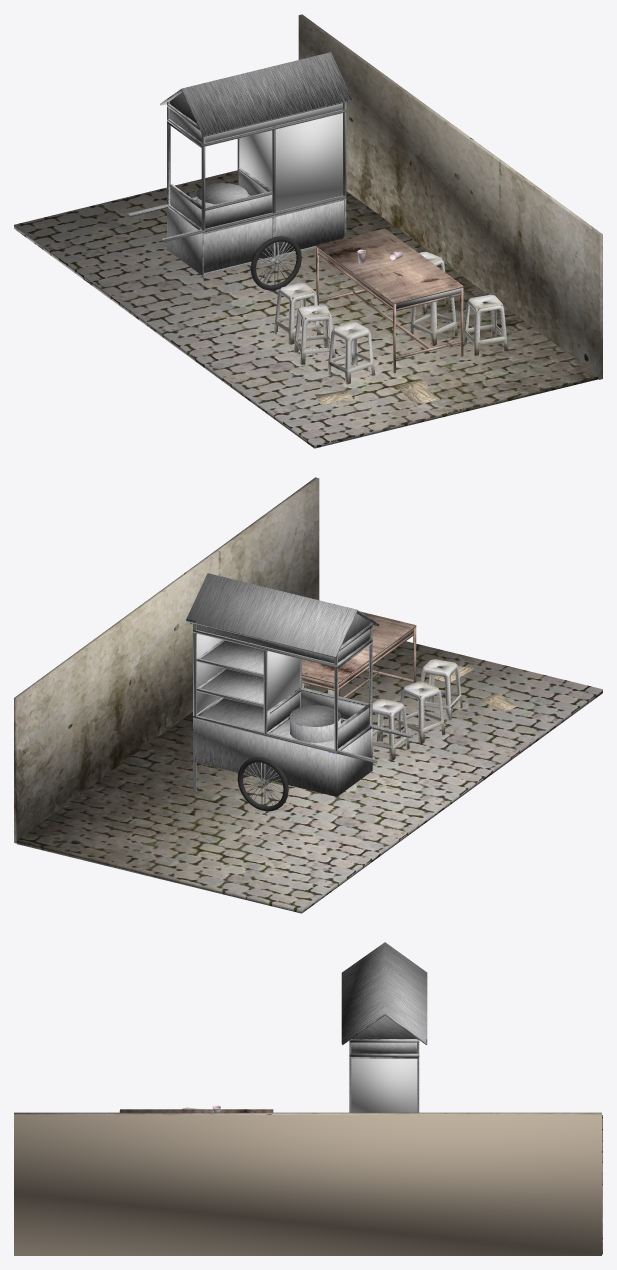
Rendered from asian_street_food_court.glb.
3 renders of one model, top to bottom at view 1: azimuth 30°, elevation 25°; view 2: azimuth 150°, elevation 25°; view 3: azimuth 270°, elevation 25°, orthographic. The views are drawn at different scales.
Parts seen in each view (by area): view 1: Box040, Box041, Object004_0, Box001, Box009, Box029, Box037, Box028, Box010, Box027, Box026, Box012 (+11 smaller); view 2: Box040, Box041, Box001, Object004_0, Box029, Cylinder047, Box010, Box027, Box022, Box023, Box028, Box026 (+9 smaller); view 3: Box041, Object004_0, Box010.001, Box025, Box021, Box029.
Part boxes in pixels (bbox=[...]): Box040: bbox=[14, 170, 598, 448]; Box041: bbox=[298, 14, 602, 379]; Object004_0: bbox=[160, 52, 352, 137]; Box001: bbox=[167, 200, 344, 275]; Box009: bbox=[276, 113, 342, 211]; Box029: bbox=[315, 228, 463, 303]; Box037: bbox=[463, 294, 507, 355]; Box028: bbox=[327, 322, 375, 384]; Box010: bbox=[239, 130, 272, 190]; Box027: bbox=[293, 305, 335, 364]; Box026: bbox=[274, 283, 320, 344]; Box012: bbox=[205, 195, 272, 228]; Box040: bbox=[17, 641, 602, 913]; Box041: bbox=[14, 477, 319, 843]; Box001: bbox=[193, 698, 371, 796]; Object004_0: bbox=[186, 573, 379, 657]; Box029: bbox=[302, 611, 416, 683]; Cylinder047: bbox=[290, 705, 340, 742]; Box010: bbox=[267, 651, 299, 711]; Box027: bbox=[397, 681, 445, 743]; Box022: bbox=[200, 669, 263, 703]; Box023: bbox=[201, 640, 263, 673]; Box028: bbox=[417, 659, 462, 720]; Box026: bbox=[372, 698, 409, 760]; Box041: bbox=[14, 1112, 601, 1255]; Object004_0: bbox=[341, 942, 427, 1045]; Box010.001: bbox=[351, 1058, 417, 1112]; Box025: bbox=[352, 1015, 416, 1039]; Box021: bbox=[351, 1042, 416, 1053]; Box029: bbox=[120, 1109, 273, 1112].
Bounding box in the file's own units: 6.85 × 4.74 × 12.43.
13 materials, 7 textured.
